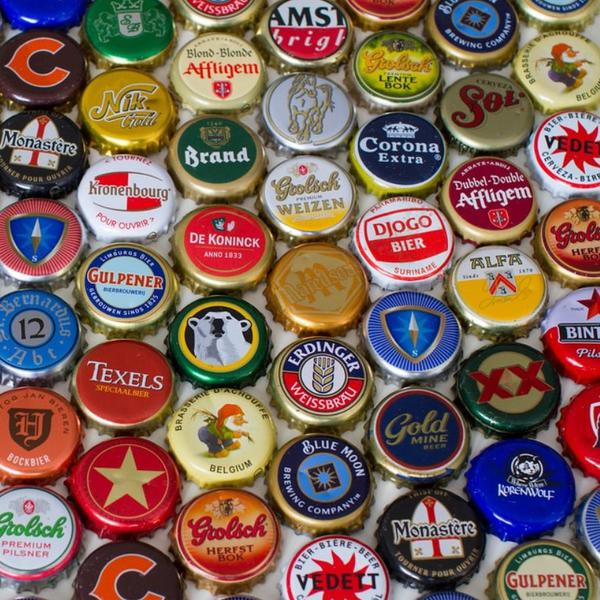corona: (349, 109, 449, 197)
